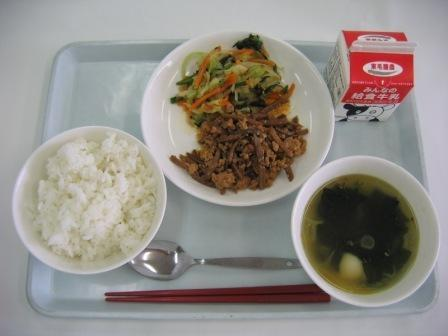Milk: (312, 26, 416, 131)
Rice: (12, 135, 167, 280)
Soups: (291, 160, 432, 307)
cooked food based on meat: (169, 97, 309, 196)
salad with sauce: (169, 33, 295, 127)
